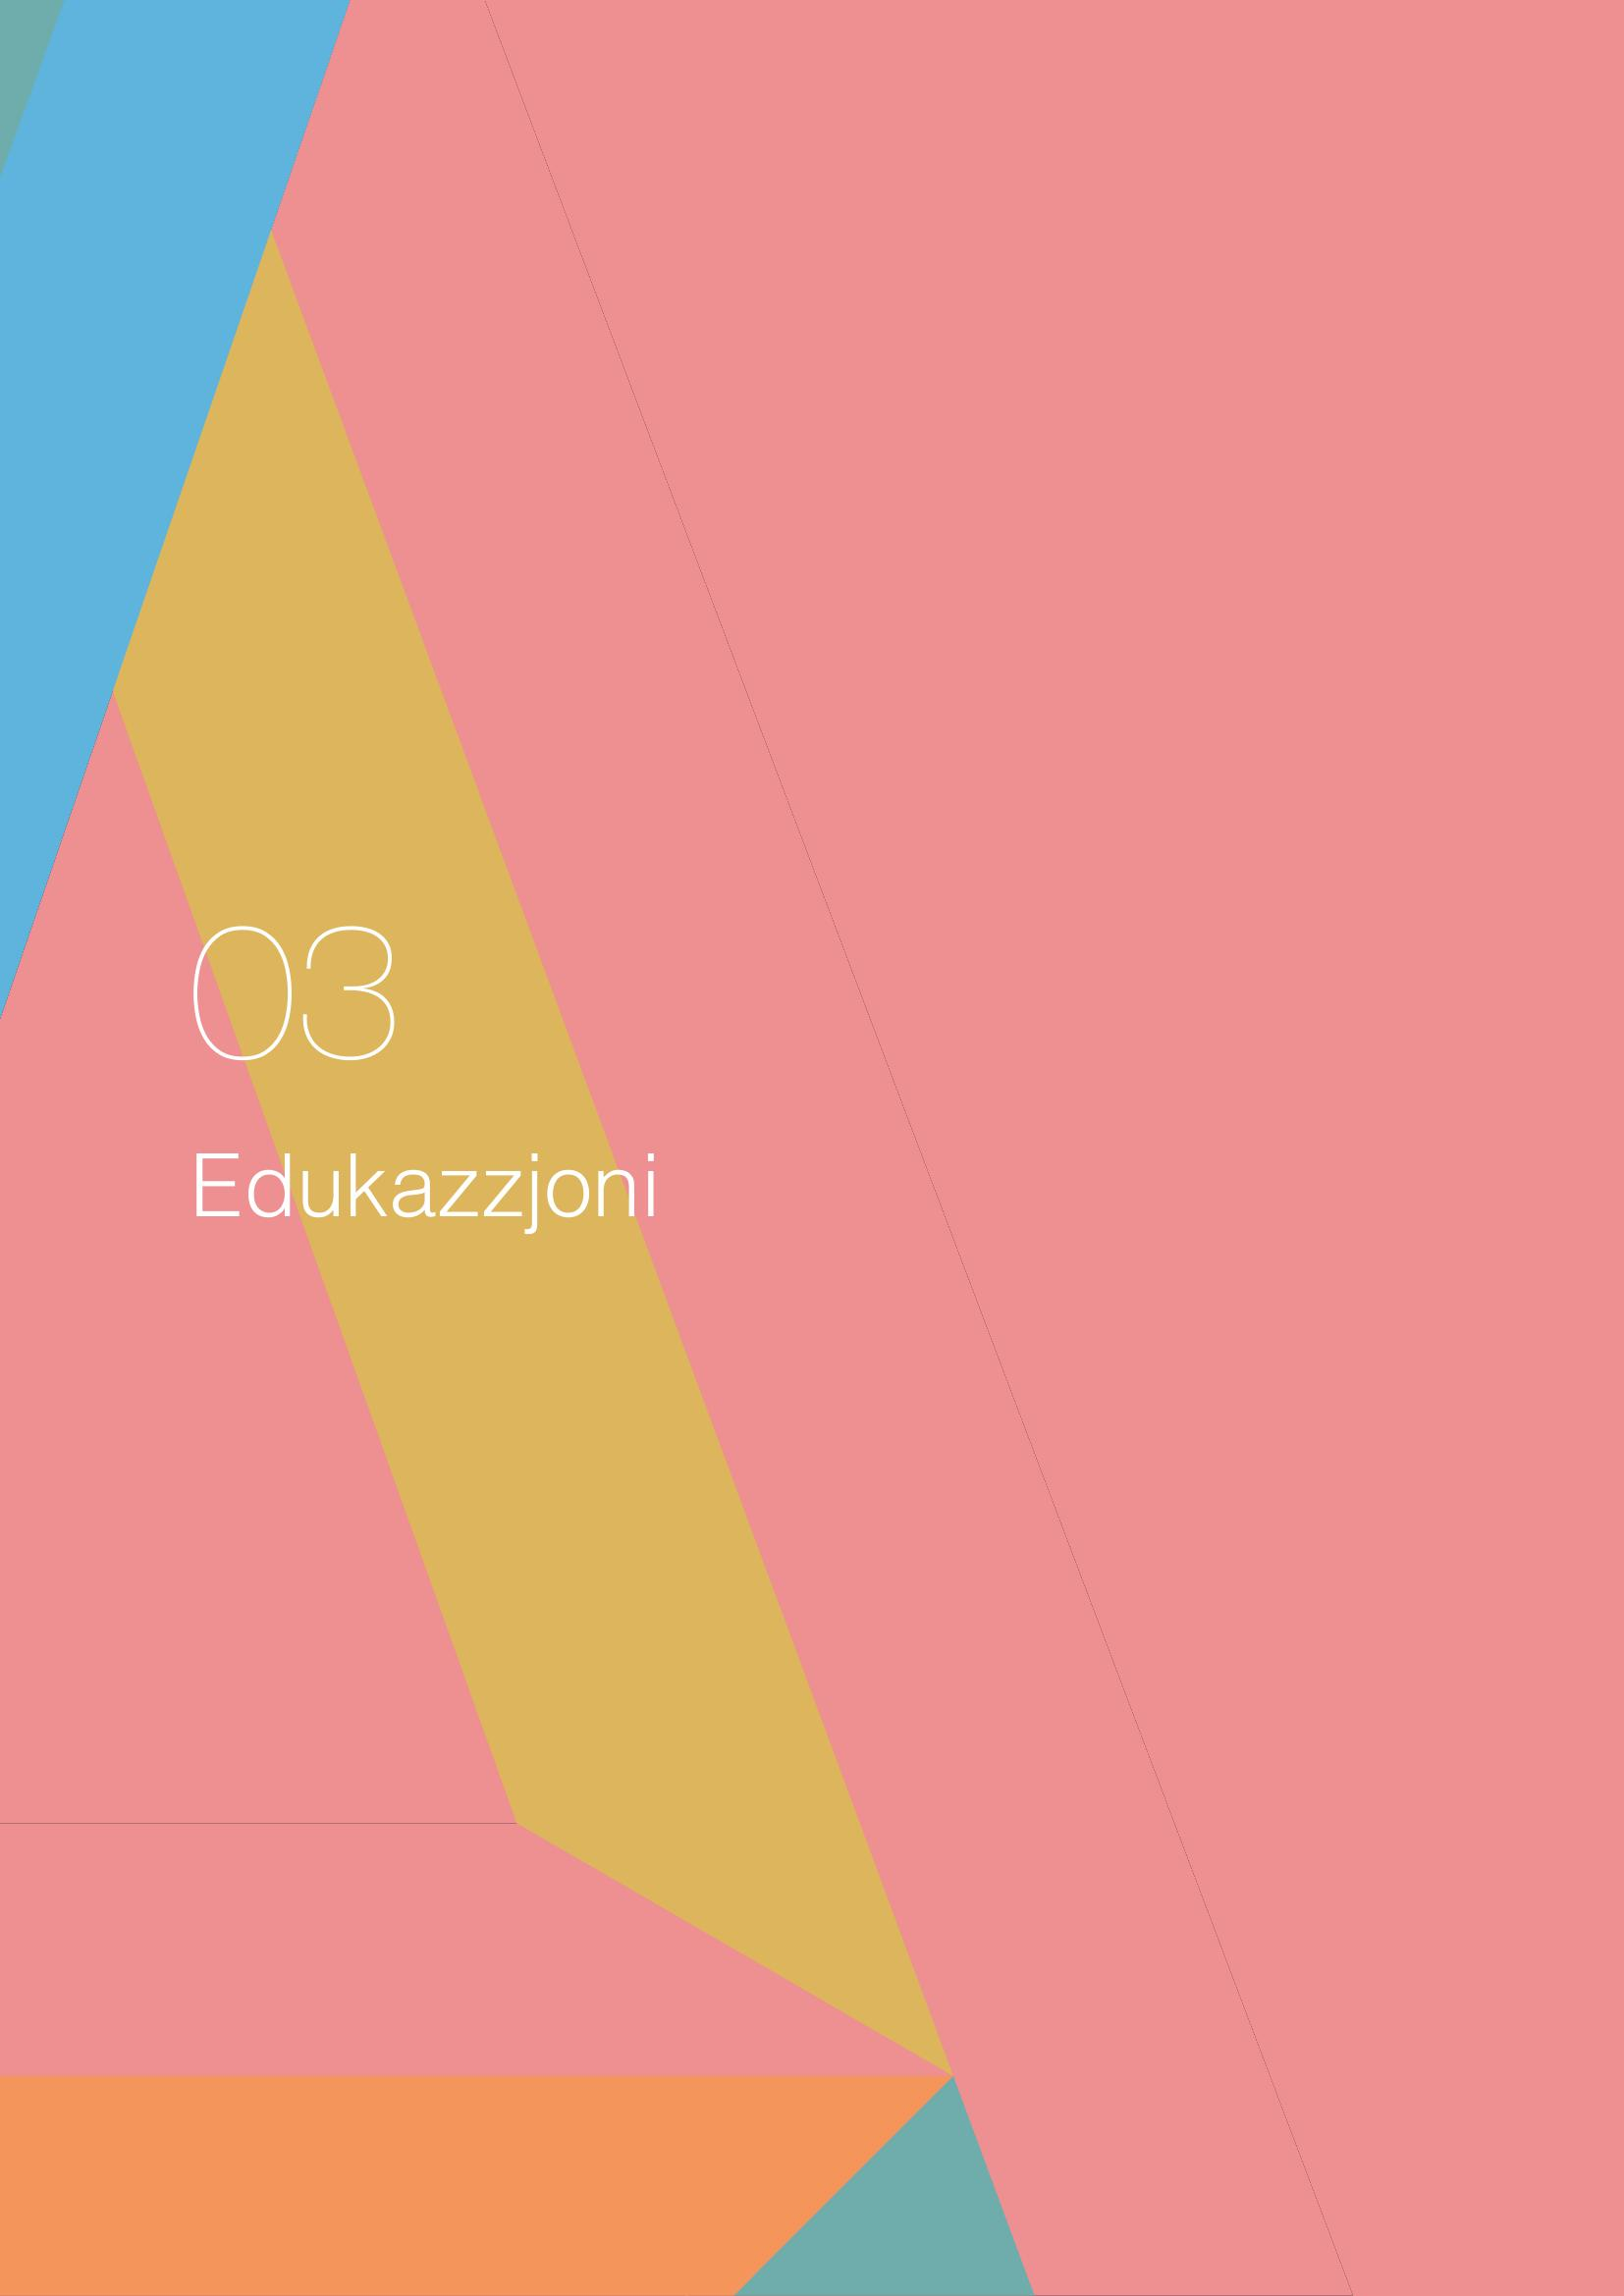text: (153, 896, 703, 1267)
